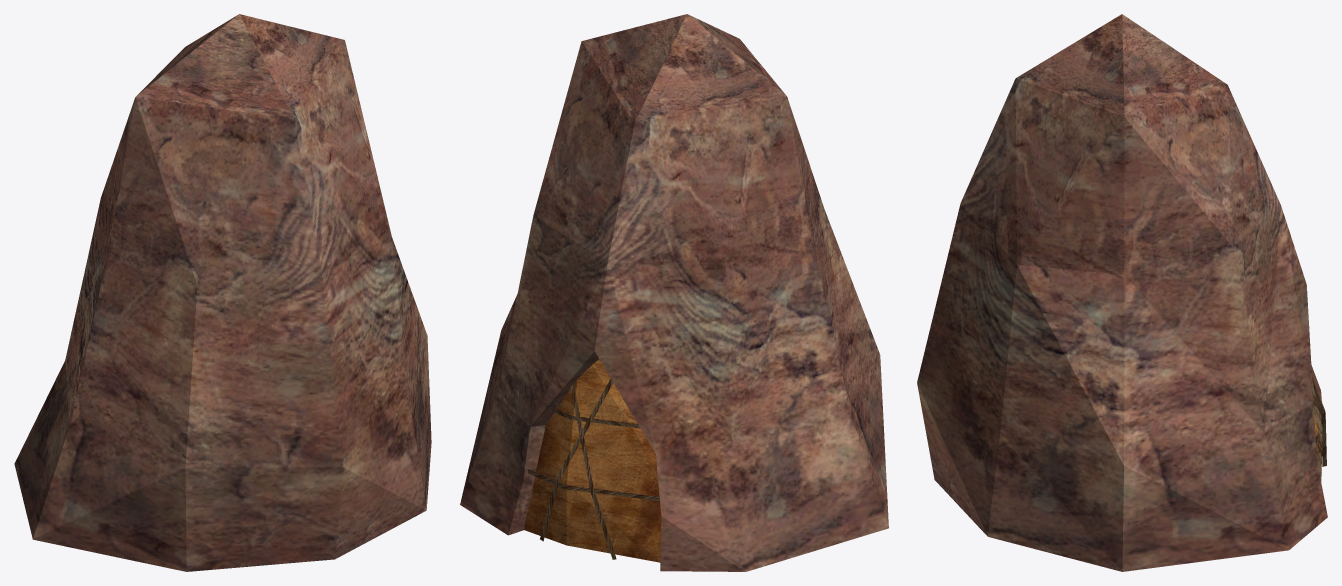
Rendered from thm_dath_night_sister_hut_s01_l3.fbx.
3 renders of one model, left to right at view 1: azimuth 30°, elevation 25°; view 2: azimuth 150°, elevation 25°; view 3: azimuth 270°, elevation 25°, orthographic. The views are drawn at different scales.
Visible parts, largest first — view 1: mesh_node; view 2: mesh_node; view 3: mesh_node.
Boxes of the visible parts, box(x1,y1,x2,y2) form: mesh_node: box(14, 14, 431, 571); mesh_node: box(460, 14, 888, 571); mesh_node: box(917, 14, 1327, 571).
Size of the model in its own units: 5.44 by 6.21 by 4.96.
